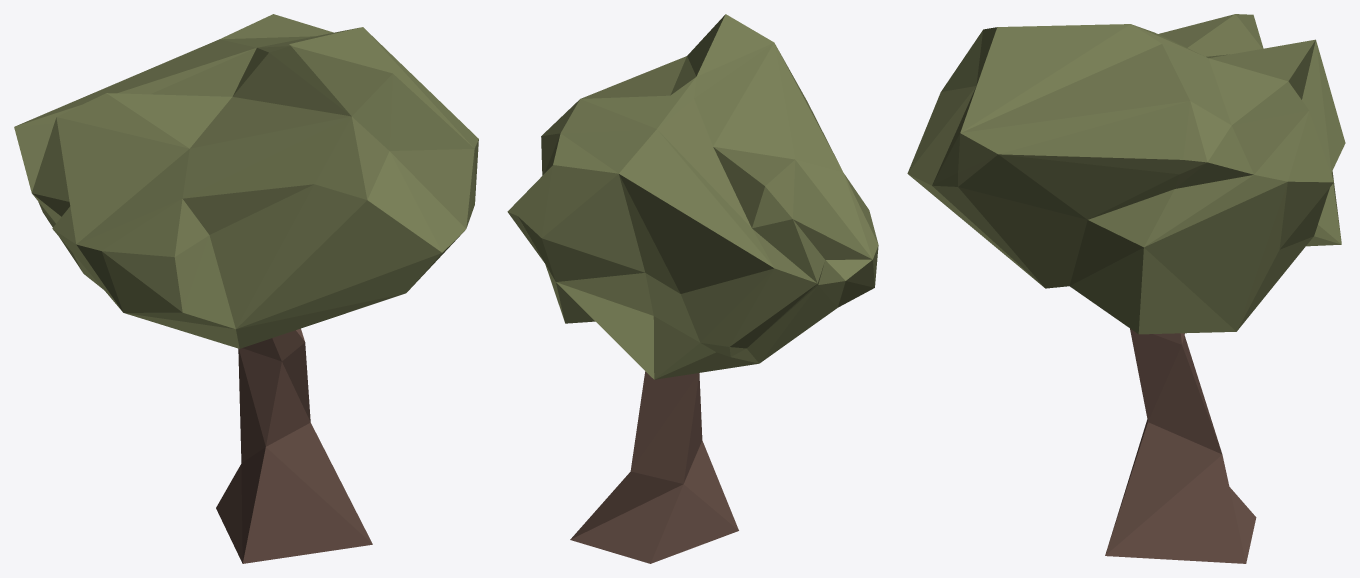
The model's file is arbre_v1.fbx.
3 views of the same model, side by side, from view 1: azimuth 30°, elevation 25°; view 2: azimuth 150°, elevation 25°; view 3: azimuth 270°, elevation 25° (orthographic). The views are drawn at different scales.
Parts seen in each view (by area): view 1: Arbre_v1; view 2: Arbre_v1; view 3: Arbre_v1.
Part boxes in pixels (left/top/right/bottom): Arbre_v1: left=14, top=14, right=478, bottom=563; Arbre_v1: left=507, top=14, right=878, bottom=563; Arbre_v1: left=907, top=14, right=1345, bottom=563.
Size of the model in its own units: 218 by 311 by 241.
